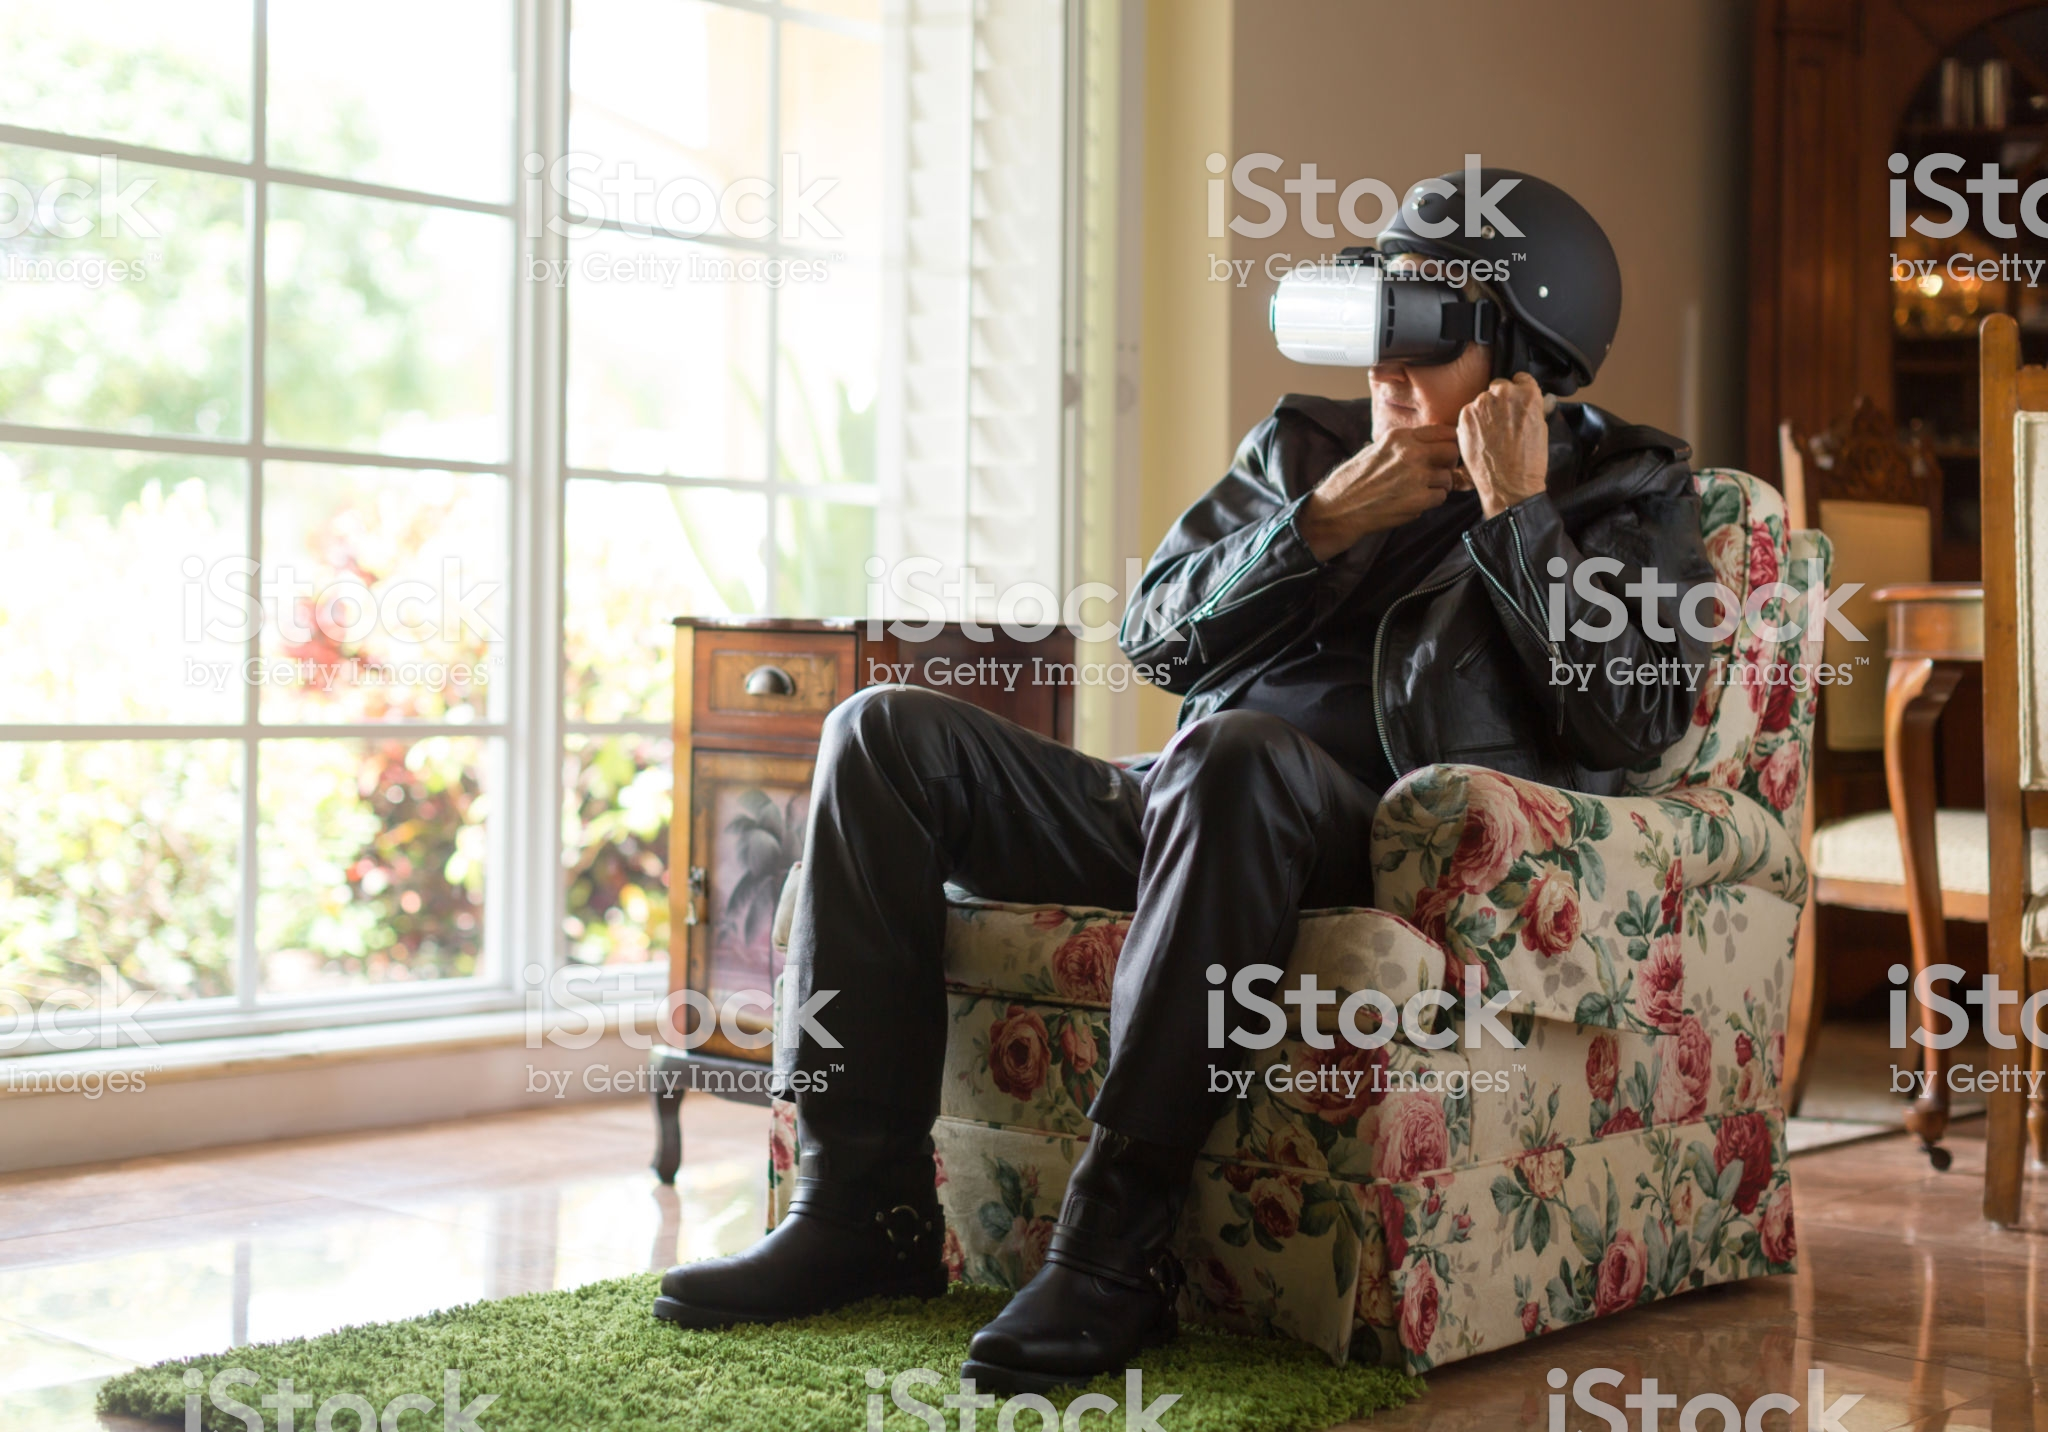helmet: (1379, 154, 1628, 360)
